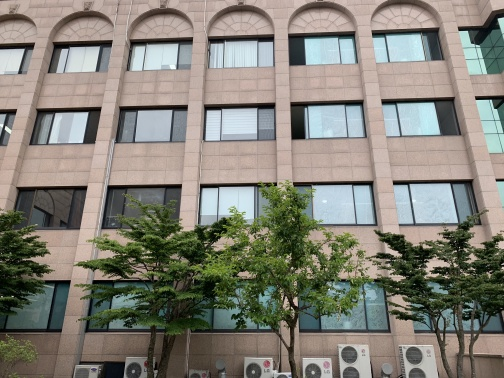Natural Science2: (9, 1, 488, 258)
